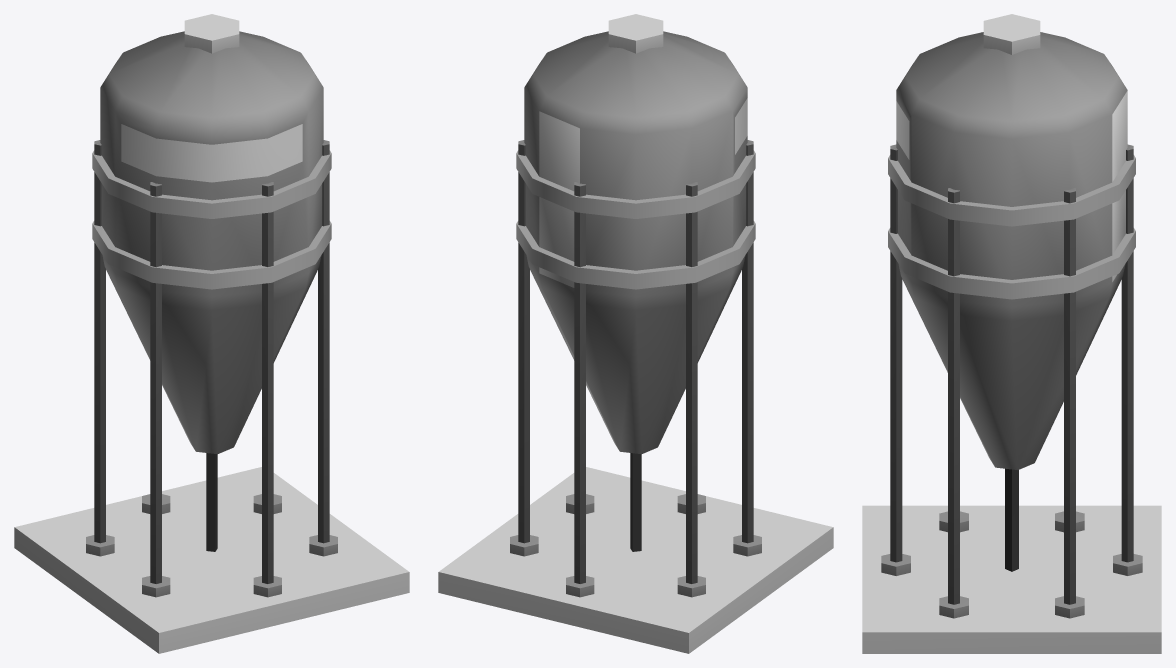
Rendered from tower_010.glb.
3 renders of one model, left to right at view 1: azimuth 30°, elevation 25°; view 2: azimuth 150°, elevation 25°; view 3: azimuth 270°, elevation 25°, orthographic. The views are drawn at different scales.
Parts seen in each view (by area): view 1: tower_010; view 2: tower_010; view 3: tower_010.
Part boxes in pixels (x1=…): tower_010: x1=14, y1=14, x2=409, y2=653; tower_010: x1=438, y1=14, x2=833, y2=653; tower_010: x1=862, y1=14, x2=1161, y2=653.
Size of the model in its own units: 3.73 by 7.73 by 3.73.
1 material, 1 textured.
